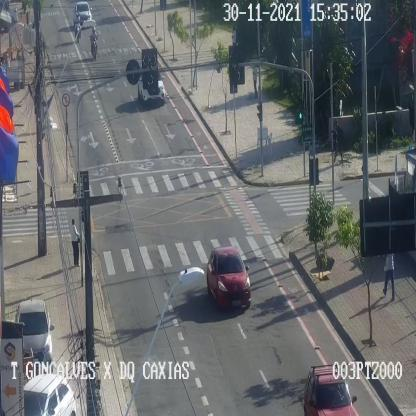car: (207, 246, 252, 310), (304, 364, 357, 416), (16, 298, 54, 367), (23, 372, 75, 416), (74, 2, 92, 27), (231, 26, 238, 44)
motorbike: (90, 27, 98, 60), (74, 13, 82, 42)
person: (334, 121, 346, 164), (70, 219, 80, 268), (252, 64, 260, 100)
